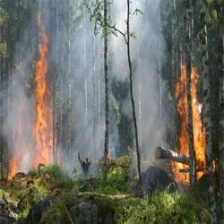fire: (17, 28, 82, 179), (160, 62, 217, 191)
